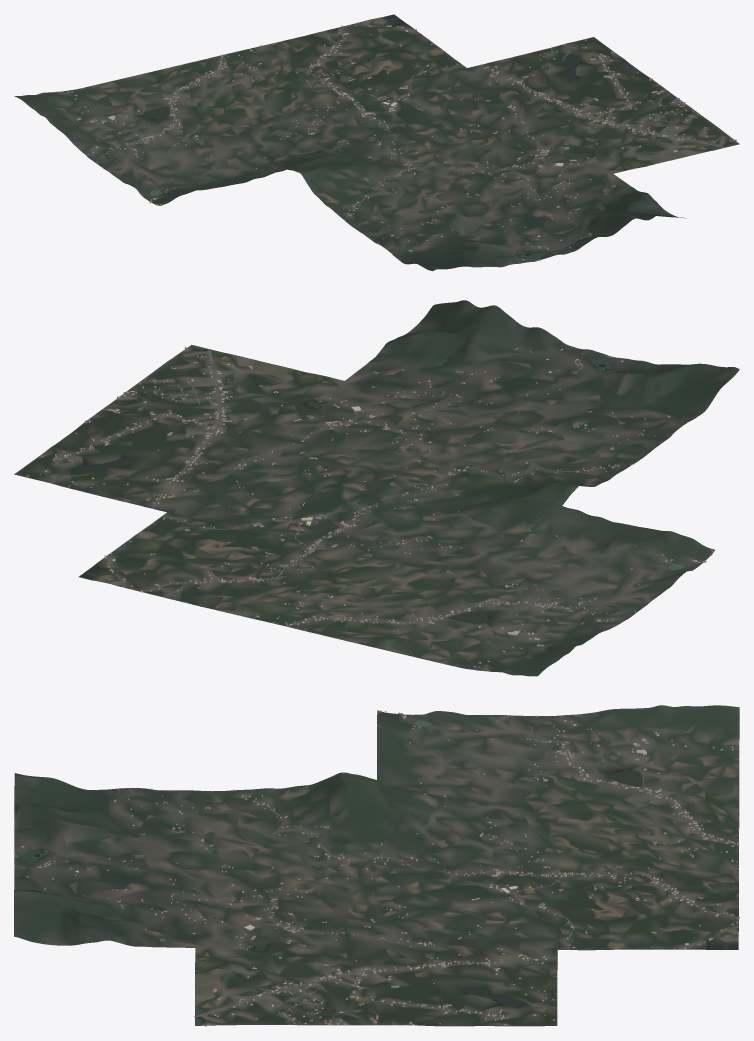
3 renders of one model, top to bottom at view 1: azimuth 30°, elevation 25°; view 2: azimuth 150°, elevation 25°; view 3: azimuth 270°, elevation 25°, orthographic. The views are drawn at different scales.
Visible parts, largest first — view 1: ground, buildings, roads, water; view 2: ground, buildings, roads, water; view 3: ground, buildings, roads, water.
Boxes of the visible parts, left/top/right/bottom form: ground: left=14, top=15, right=739, bottom=271; buildings: left=67, top=22, right=736, bottom=260; roads: left=106, top=23, right=725, bottom=221; water: left=142, top=14, right=738, bottom=261; ground: left=14, top=300, right=739, bottom=676; buildings: left=25, top=347, right=712, bottom=667; roads: left=55, top=349, right=649, bottom=626; water: left=72, top=345, right=684, bottom=624; ground: left=14, top=705, right=739, bottom=1026; buildings: left=21, top=710, right=739, bottom=1026; roads: left=194, top=715, right=739, bottom=1017; water: left=14, top=720, right=738, bottom=1025.
Bounding box in the file's own units: 5629 × 244 × 5617.
